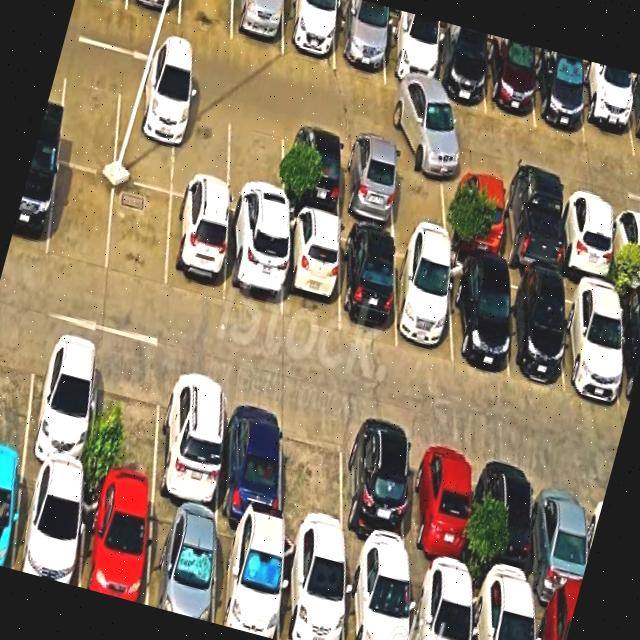empty: (89, 349, 162, 498), (281, 403, 343, 549), (113, 77, 179, 193), (47, 162, 114, 271), (57, 62, 121, 174), (107, 179, 171, 290), (171, 94, 229, 207), (227, 108, 283, 223), (392, 148, 447, 243), (0, 322, 37, 460), (179, 0, 232, 40)
occupied: (23, 331, 99, 479), (154, 367, 224, 515), (217, 384, 284, 529), (344, 418, 409, 566), (409, 433, 467, 582), (13, 465, 84, 586), (146, 500, 216, 622), (80, 483, 150, 604), (213, 519, 281, 640), (480, 450, 533, 597), (561, 279, 622, 404), (535, 465, 588, 606), (448, 256, 508, 377), (502, 269, 563, 386), (395, 240, 452, 362), (282, 211, 339, 332), (339, 225, 396, 344), (279, 535, 343, 640), (165, 195, 227, 303), (224, 212, 281, 318), (501, 177, 559, 277), (284, 122, 340, 219), (345, 554, 408, 640), (447, 163, 502, 260), (8, 151, 57, 256), (341, 136, 395, 231), (578, 64, 633, 156), (560, 191, 612, 285), (534, 49, 584, 142), (433, 27, 485, 113), (485, 37, 534, 127), (409, 568, 470, 640), (383, 14, 434, 98), (334, 1, 384, 81), (282, 0, 336, 69), (472, 583, 533, 640), (231, 0, 283, 55), (617, 292, 640, 411), (0, 459, 23, 568), (612, 203, 640, 291), (533, 597, 575, 640), (624, 75, 640, 158), (126, 0, 180, 24)
